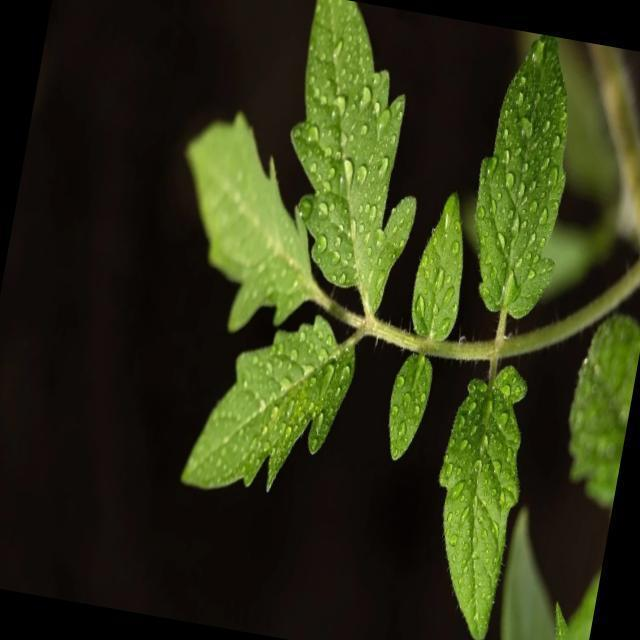Healthy Leaf: (259, 0, 447, 323), (409, 353, 542, 640), (180, 299, 364, 506), (462, 32, 588, 318), (406, 186, 480, 341), (379, 347, 437, 468)
